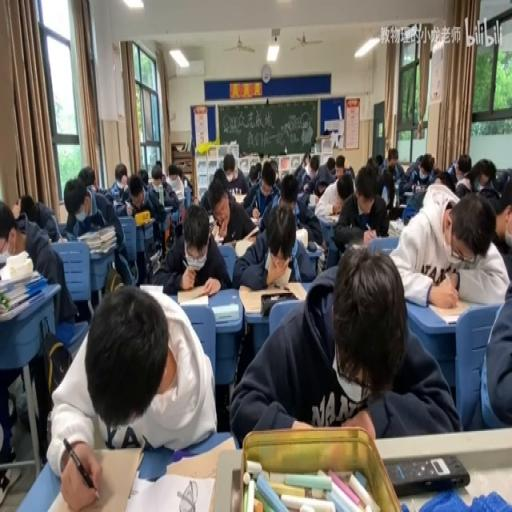calculator: (126, 469, 214, 512), (162, 434, 234, 480), (238, 280, 305, 314), (427, 297, 470, 323), (212, 302, 238, 322), (176, 288, 208, 304), (294, 224, 308, 248), (148, 248, 161, 272), (210, 220, 222, 244), (388, 218, 403, 234), (309, 239, 325, 253), (324, 212, 341, 222), (381, 183, 388, 205), (0, 250, 9, 266), (112, 196, 124, 208), (157, 183, 163, 205), (403, 189, 416, 199), (232, 193, 246, 202), (308, 194, 318, 206), (250, 216, 260, 225), (162, 203, 172, 212), (208, 215, 214, 226), (398, 202, 408, 206)
paper: (230, 245, 452, 441), (48, 282, 218, 509), (0, 199, 76, 465), (389, 182, 507, 307), (462, 262, 510, 432), (62, 174, 130, 292), (233, 196, 315, 289), (154, 200, 230, 294), (332, 165, 390, 253), (125, 172, 161, 240), (401, 150, 436, 200), (164, 160, 189, 228), (454, 157, 490, 199), (486, 172, 512, 230), (302, 155, 332, 196), (198, 166, 224, 212), (220, 154, 248, 196), (108, 161, 130, 203), (382, 151, 405, 185), (278, 172, 297, 205), (77, 166, 97, 196), (16, 193, 35, 222), (45, 212, 64, 240), (436, 171, 458, 192), (337, 176, 353, 200), (246, 162, 260, 186), (334, 155, 345, 176), (138, 166, 148, 185), (270, 158, 278, 179), (326, 158, 335, 173), (182, 175, 191, 189), (374, 154, 382, 169), (317, 182, 326, 195), (168, 174, 178, 184), (348, 164, 354, 180), (154, 158, 160, 169), (160, 175, 166, 186), (310, 165, 316, 176), (432, 164, 438, 174)
person: (386, 454, 470, 496)
